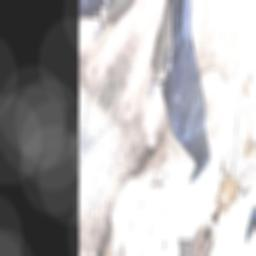Crow: (113, 0, 256, 192)
